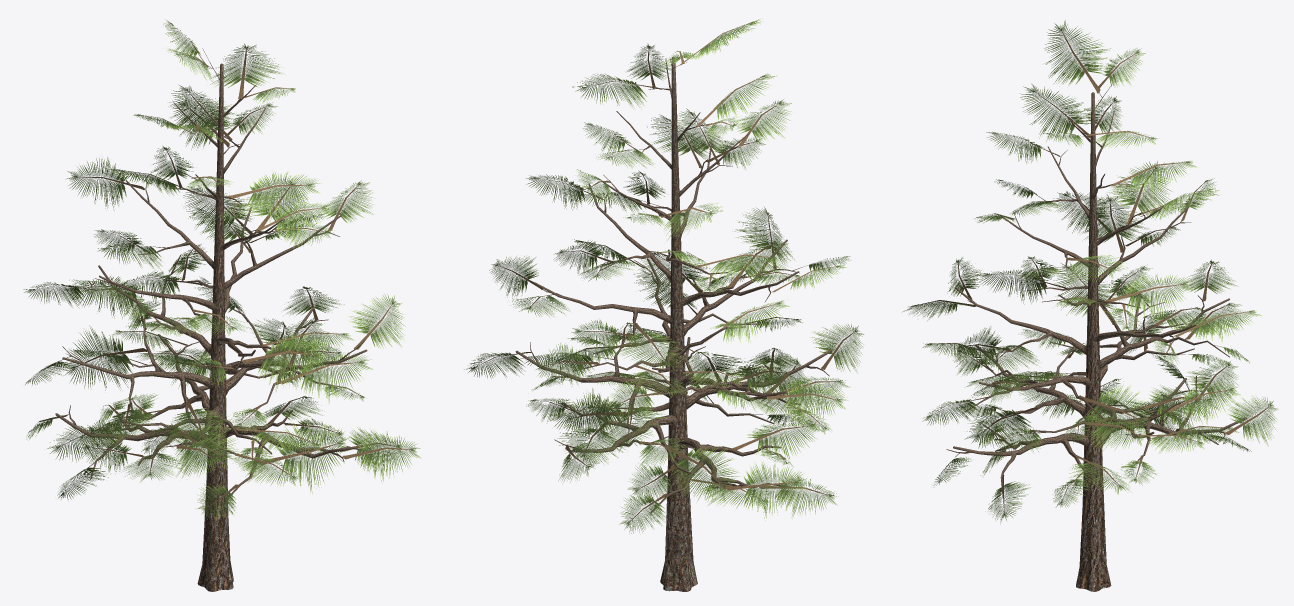
The model's file is testtree.dae.
3 renders of one model, left to right at view 1: azimuth 30°, elevation 25°; view 2: azimuth 150°, elevation 25°; view 3: azimuth 270°, elevation 25°, orthographic. The views are drawn at different scales.
Visible parts, largest first — view 1: Tree_1, Tree_0; view 2: Tree_1, Tree_0; view 3: Tree_1, Tree_0.
Boxes of the visible parts, x1,y1,x2,y2 form: Tree_1: (23,19,420,521); Tree_0: (55,48,367,591); Tree_1: (464,19,864,534); Tree_0: (515,57,832,591); Tree_1: (903,20,1278,524); Tree_0: (946,81,1246,591).
Size of the model in its own units: 182 by 176 by 272.
Materials: 2 (2 with a texture image).
